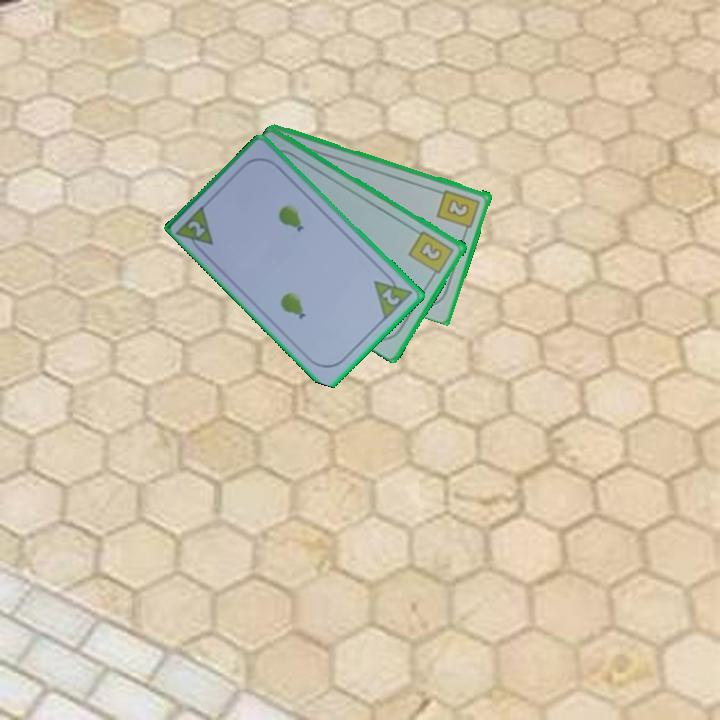2b: (405, 227, 457, 281), (434, 186, 483, 236)
2p: (370, 268, 416, 323), (185, 217, 209, 241)
